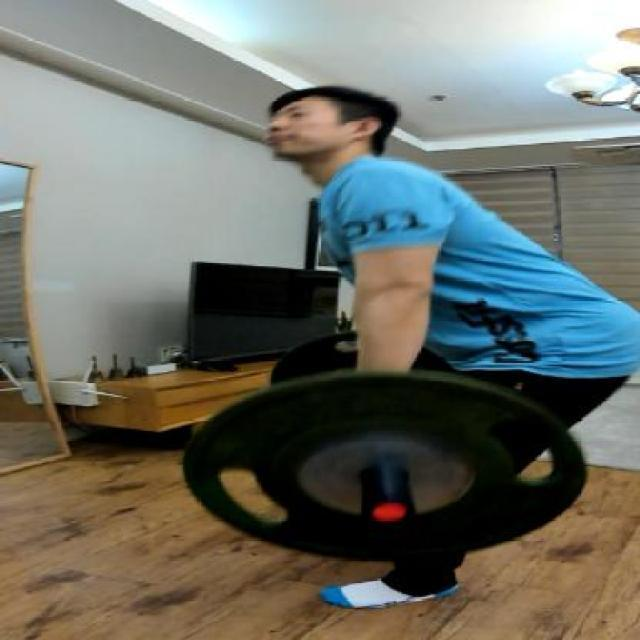barbell: (173, 362, 591, 571)
